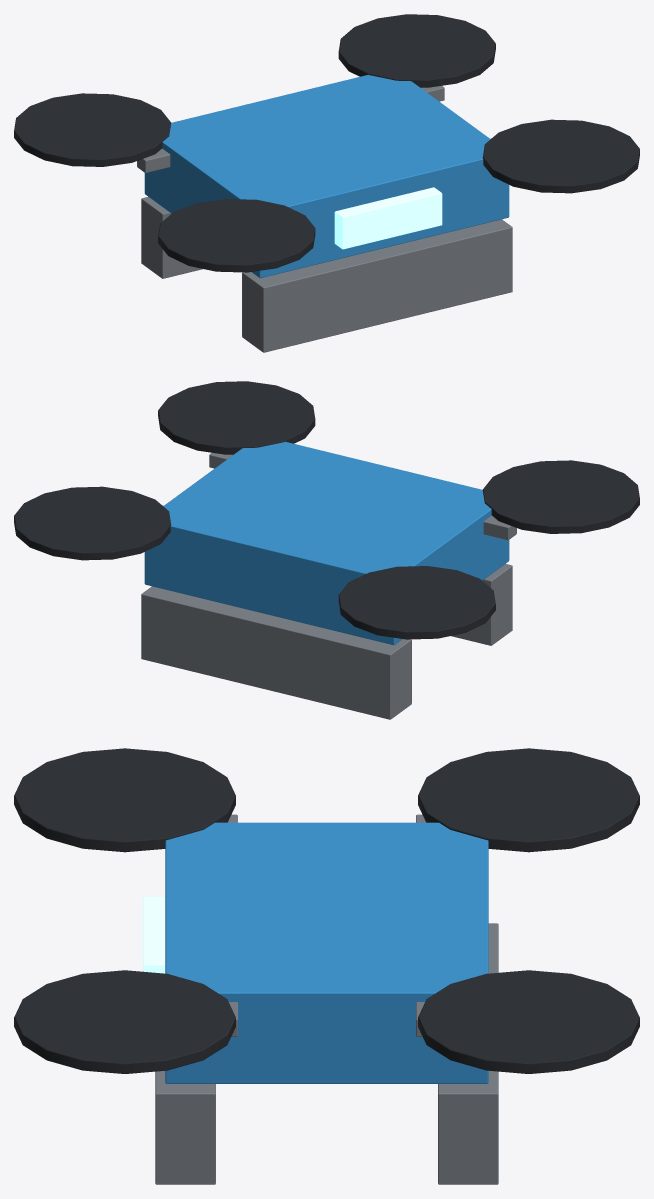
File: strix_utility_drone.fbx
The picture shows the model from 3 angles, top to bottom: view 1: azimuth 30°, elevation 25°; view 2: azimuth 150°, elevation 25°; view 3: azimuth 270°, elevation 25°; orthographic projection. The views are drawn at different scales.
Parts seen in each view (by area): view 1: Utility_Drone; view 2: Utility_Drone; view 3: Utility_Drone.
Part boxes in pixels (left/top/right/bottom): Utility_Drone: left=14, top=14, right=639, bottom=352; Utility_Drone: left=14, top=381, right=639, bottom=719; Utility_Drone: left=14, top=748, right=639, bottom=1184.
Bounding box in the file's own units: 74 × 21.2 × 62.
